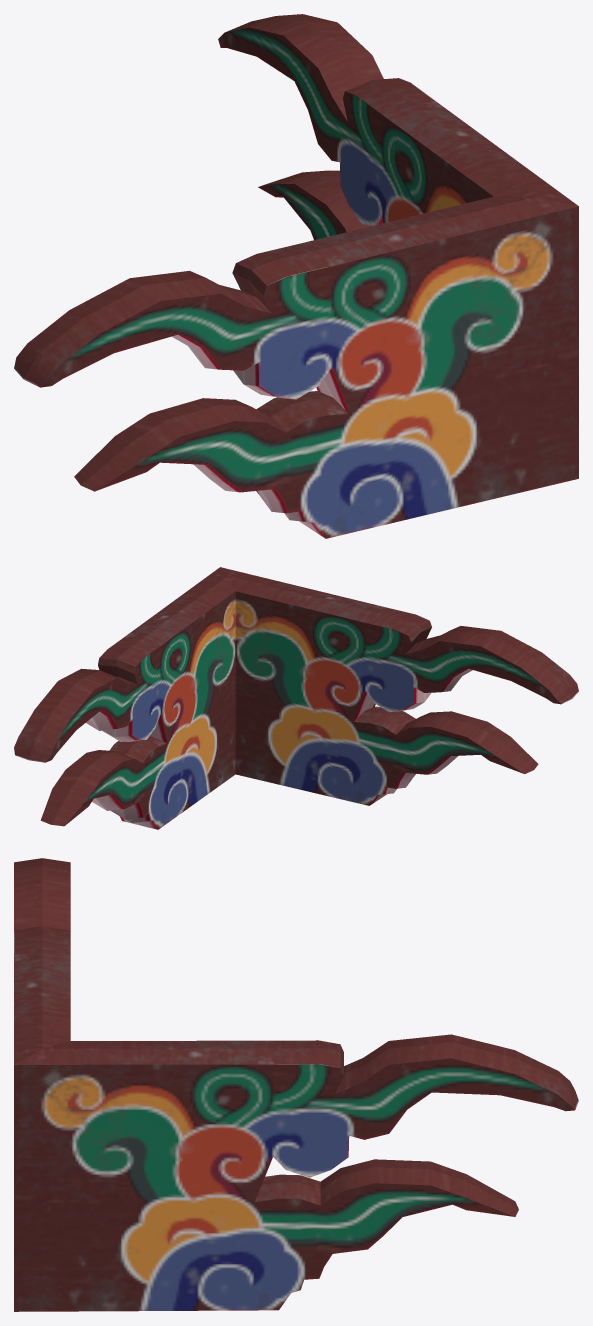
Rendered from SM_Gongpo03a.fbx.
3 views of the same model, one above another, from view 1: azimuth 30°, elevation 25°; view 2: azimuth 150°, elevation 25°; view 3: azimuth 270°, elevation 25° (orthographic). The views are drawn at different scales.
Parts seen in each view (by area): view 1: SM_Gongpo03a; view 2: SM_Gongpo03a; view 3: SM_Gongpo03a.
Boxes of the visible parts, left/top/right/bottom form: SM_Gongpo03a: left=14, top=14, right=578, bottom=538; SM_Gongpo03a: left=14, top=567, right=578, bottom=829; SM_Gongpo03a: left=14, top=858, right=578, bottom=1311.
Size of the model in its own units: 88.07 by 88.07 by 44.33.
1 material, 1 textured.
